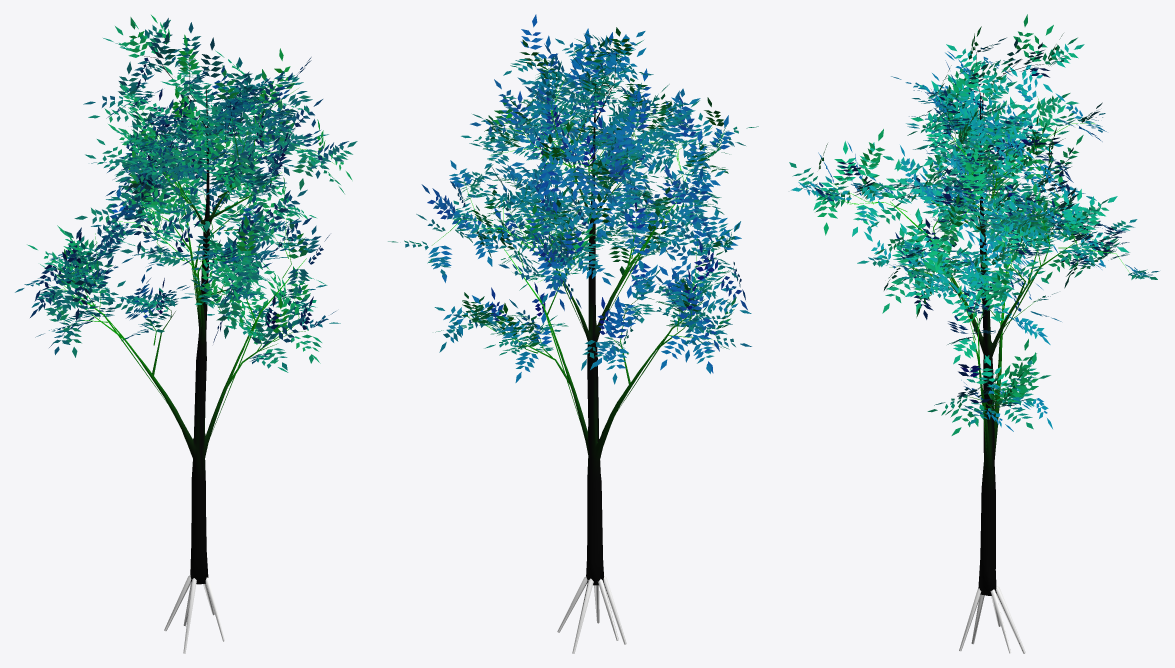
3 views of the same model, side by side, from view 1: azimuth 30°, elevation 25°; view 2: azimuth 150°, elevation 25°; view 3: azimuth 270°, elevation 25° (orthographic).
Parts seen in each view (by area): view 1: Foliage, Trunk, Twigs, Branches, RootTips; view 2: Foliage, Trunk, Twigs, Branches, RootTips; view 3: Foliage, Trunk, Twigs, Branches, RootTips.
Boxes of the visible parts, x1=… form: Foliage: x1=15, y1=15, x2=357, y2=372; Trunk: x1=190, y1=139, x2=209, y2=584; Twigs: x1=51, y1=54, x2=335, y2=434; Branches: x1=102, y1=172, x2=277, y2=460; RootTips: x1=164, y1=575, x2=224, y2=653; Foliage: x1=388, y1=14, x2=758, y2=384; Trunk: x1=586, y1=175, x2=603, y2=585; Twigs: x1=432, y1=43, x2=722, y2=422; Branches: x1=537, y1=152, x2=667, y2=462; RootTips: x1=557, y1=576, x2=626, y2=653; Foliage: x1=789, y1=14, x2=1159, y2=435; Trunk: x1=978, y1=165, x2=996, y2=595; Twigs: x1=809, y1=47, x2=1129, y2=456; Branches: x1=926, y1=183, x2=1045, y2=472; RootTips: x1=959, y1=586, x2=1025, y2=653.
Size of the model in its own units: 12254 by 12451 by 23104.
